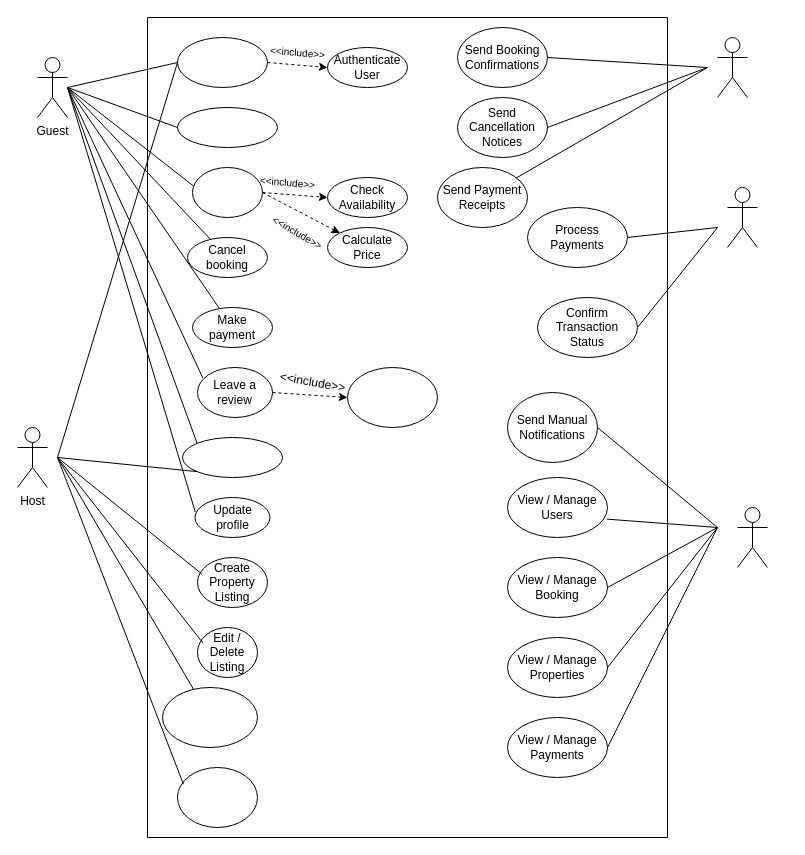
The diagram is 805 pixels wide and 855 high, and some of its shapes have lost their labels. Each missing label, with the centre of its shape:
"Admin" belongs at (x=752, y=537).
"Book a property" belongs at (x=227, y=192).
"Email Service" belongs at (x=732, y=67).
"Payment Service" belongs at (x=742, y=217).
"Receive notifications" belongs at (x=232, y=457).
"Register / Login" belongs at (x=222, y=62).
"Respond to Reviews" belongs at (x=217, y=797).
"Search for properties" belongs at (x=227, y=127).
"Validate Booking History" belongs at (x=392, y=397).
"View Bookings for Their Listings" belongs at (x=210, y=717).
